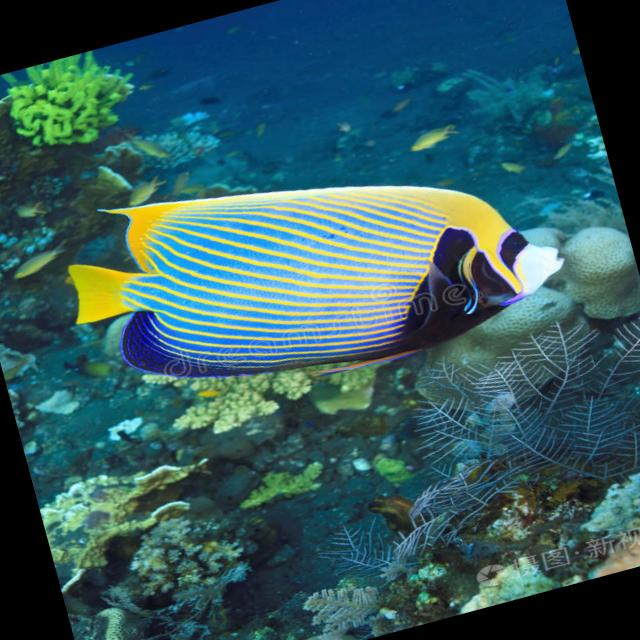AngelFish: (36, 89, 580, 434)
